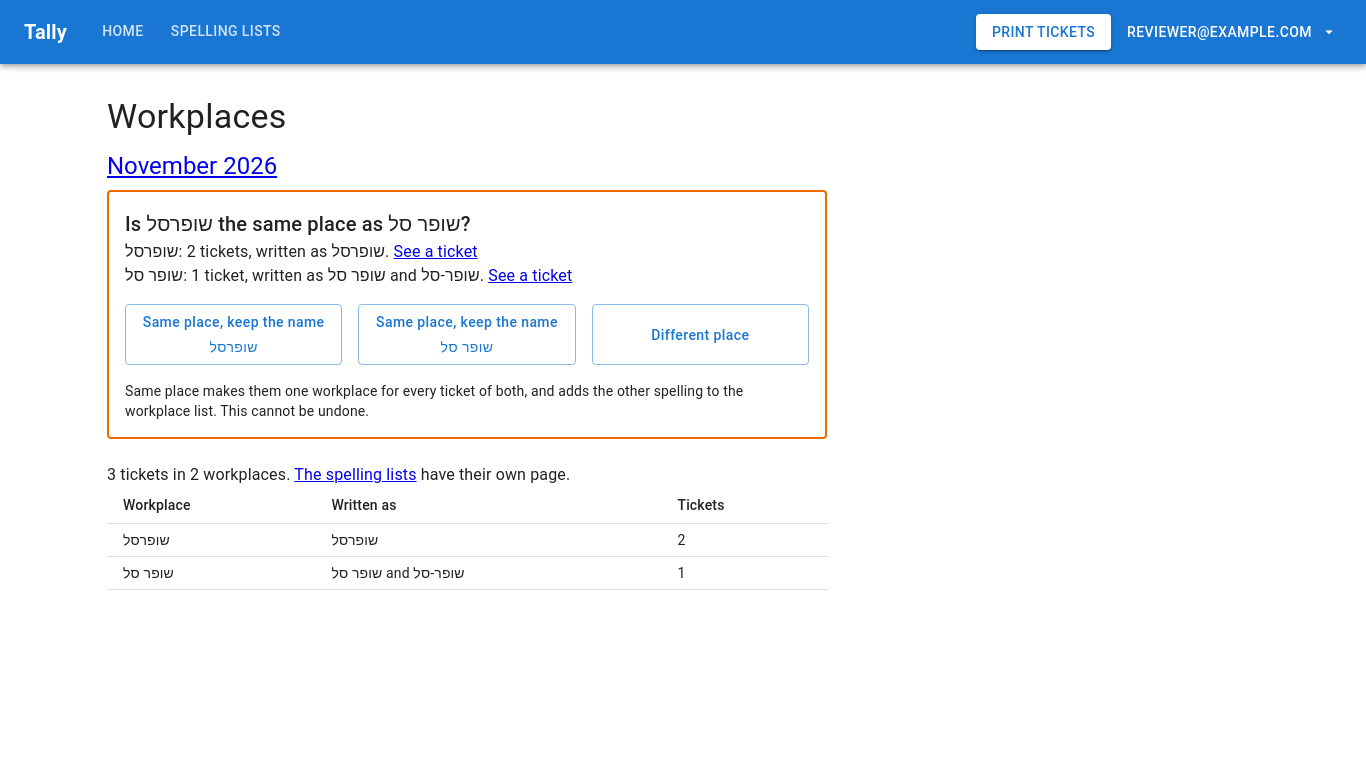
Scenario: the Workplaces page › names both places in "Are you sure?"
Click the button "Same place, keep the name שופרסל" at coordinates (234, 335), box [125, 304, 342, 365]
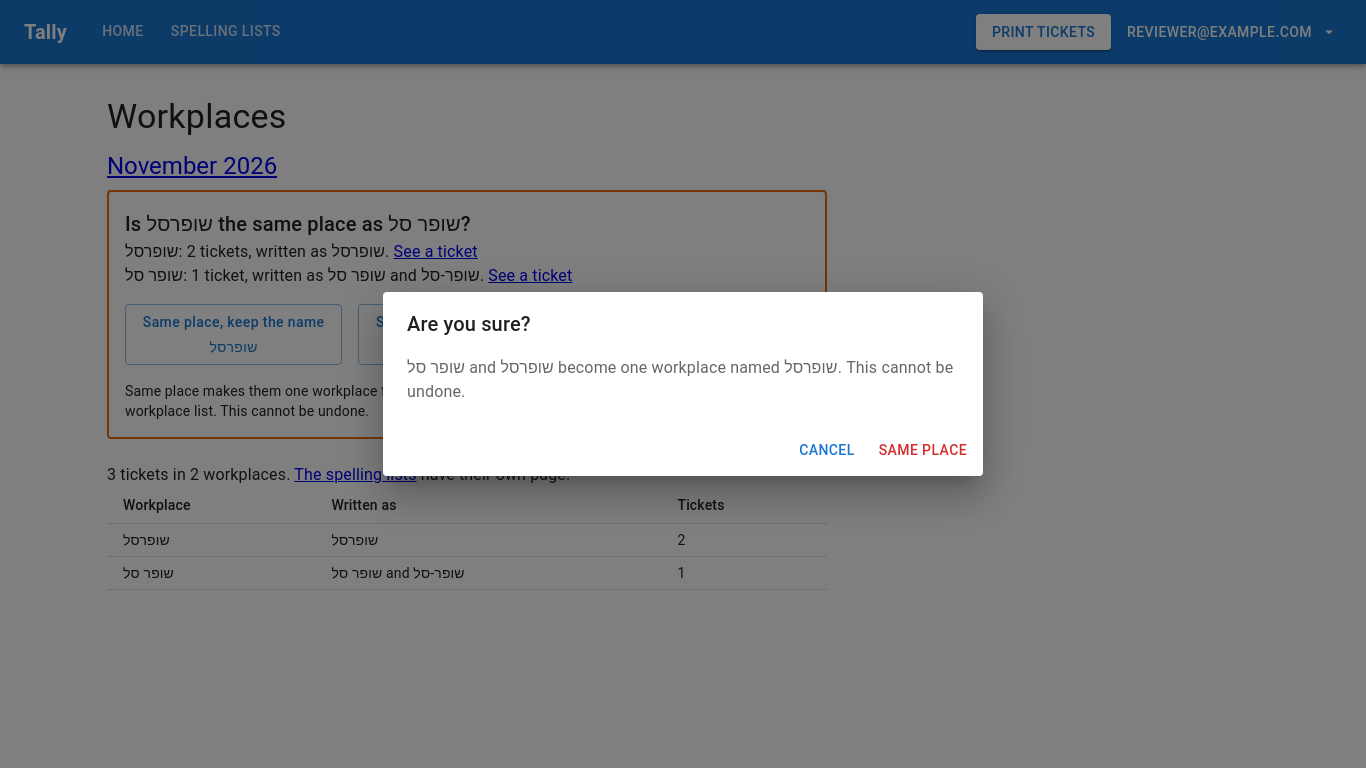
Result: the dialog shows "שופר סל and שופרסל become one workplace named שופרסל." at [383, 292, 983, 476]
